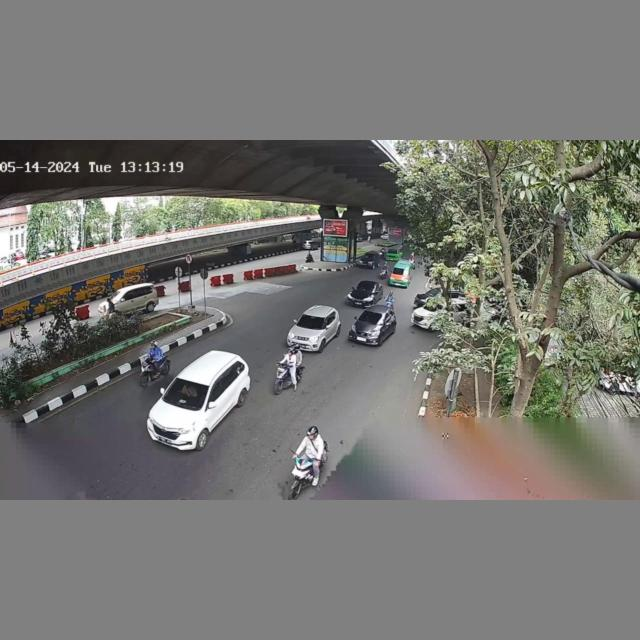windshield: (163, 378, 208, 409), (293, 314, 331, 329), (358, 311, 384, 324)
